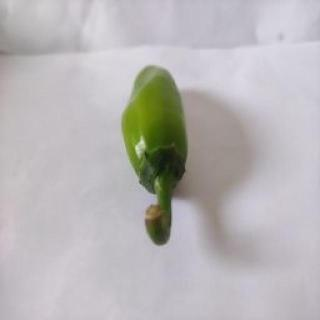Cabai Hijau: (116, 62, 194, 251)
